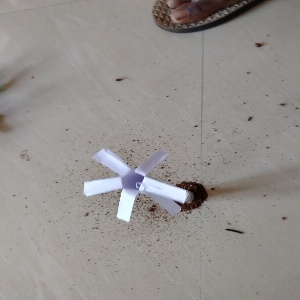weed: (79, 146, 207, 220)
